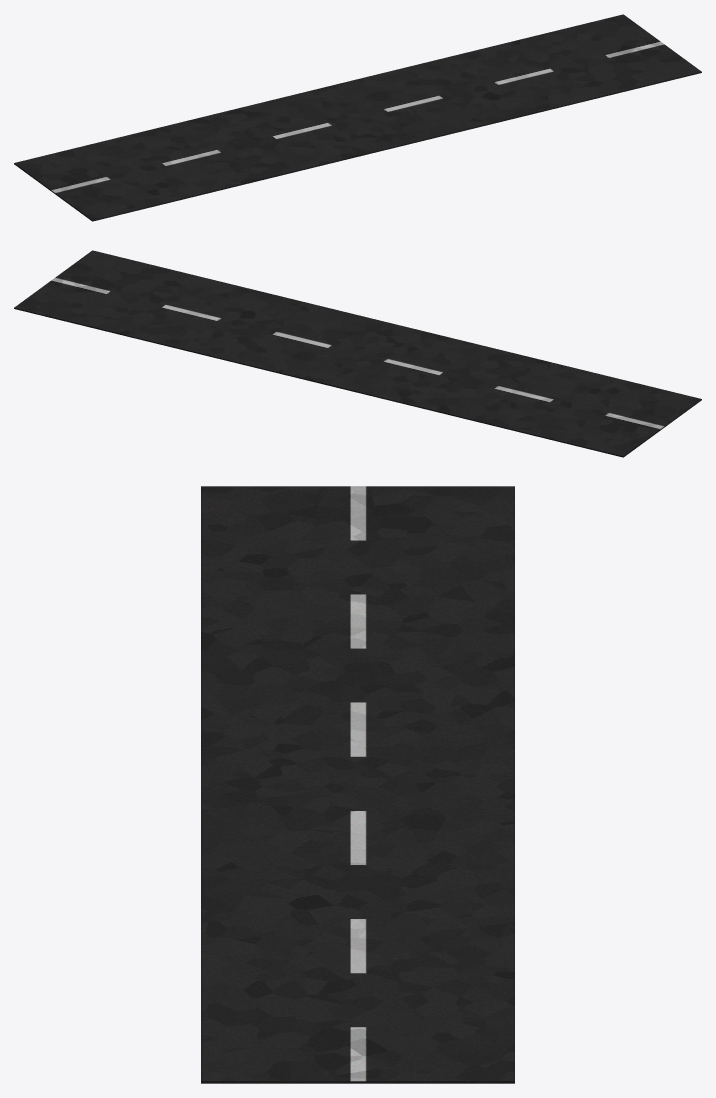
The model's file is CARRETERA.fbx.
The picture shows the model from 3 angles, top to bottom: view 1: azimuth 30°, elevation 25°; view 2: azimuth 150°, elevation 25°; view 3: azimuth 270°, elevation 25°; orthographic projection. The views are drawn at different scales.
Parts seen in each view (by area): view 1: CARRETERA_Baked; view 2: CARRETERA_Baked; view 3: CARRETERA_Baked.
Boxes of the visible parts, left/top/right/bottom form: CARRETERA_Baked: left=14, top=14, right=701, bottom=221; CARRETERA_Baked: left=14, top=250, right=701, bottom=457; CARRETERA_Baked: left=201, top=486, right=514, bottom=1083.
Size of the model in its own units: 7603 by 13.26 by 1696.
1 material, 1 textured.
